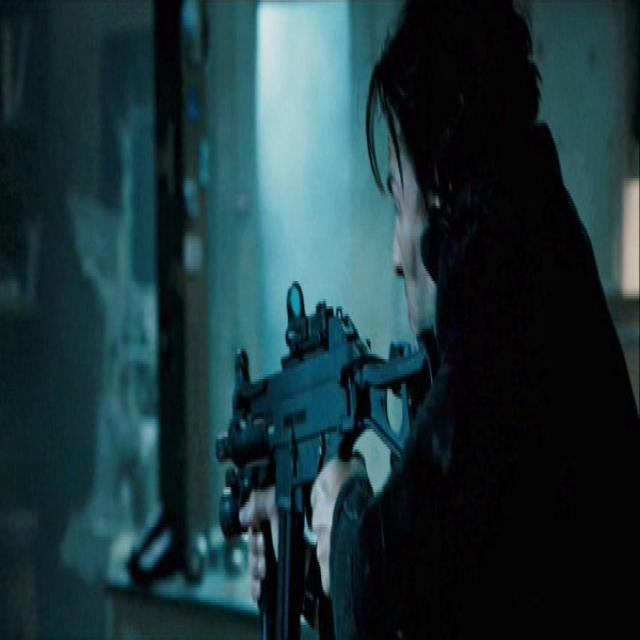rifle: (211, 276, 429, 640)
